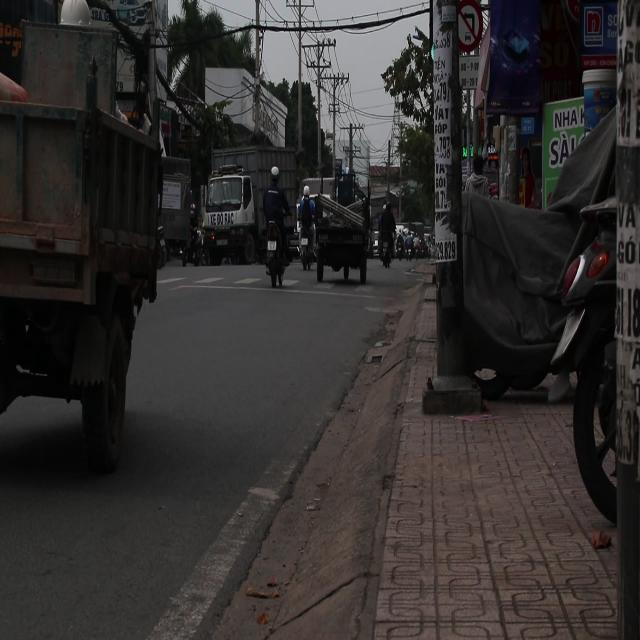motorbike: (264, 222, 288, 288), (300, 220, 314, 270)
truck: (1, 9, 170, 485), (312, 191, 374, 294), (199, 173, 262, 266), (158, 156, 193, 263)
